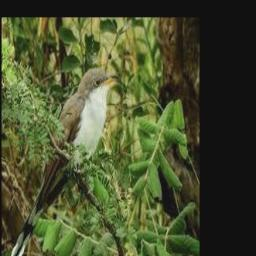Cuckoo: (10, 68, 121, 256)
